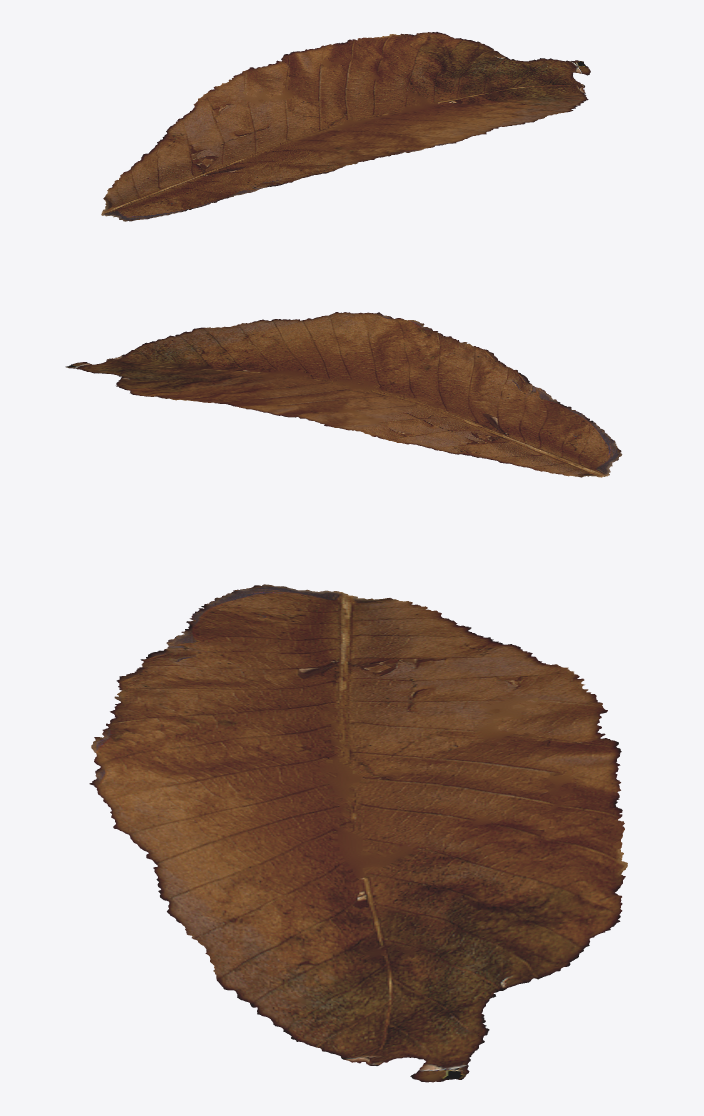
File: SM_SingleDriedLeave_3.fbx
3 renders of one model, top to bottom at view 1: azimuth 30°, elevation 25°; view 2: azimuth 150°, elevation 25°; view 3: azimuth 270°, elevation 25°, orthographic. The views are drawn at different scales.
Visible parts, largest first — view 1: SM_SingleDriedLeave_3; view 2: SM_SingleDriedLeave_3; view 3: SM_SingleDriedLeave_3.
Boxes of the visible parts, bbox=[...] form: SM_SingleDriedLeave_3: bbox=[101, 32, 590, 221]; SM_SingleDriedLeave_3: bbox=[65, 312, 622, 477]; SM_SingleDriedLeave_3: bbox=[89, 584, 627, 1082].
Bounding box in the file's own units: 17.15 × 8.29 × 1.63.
